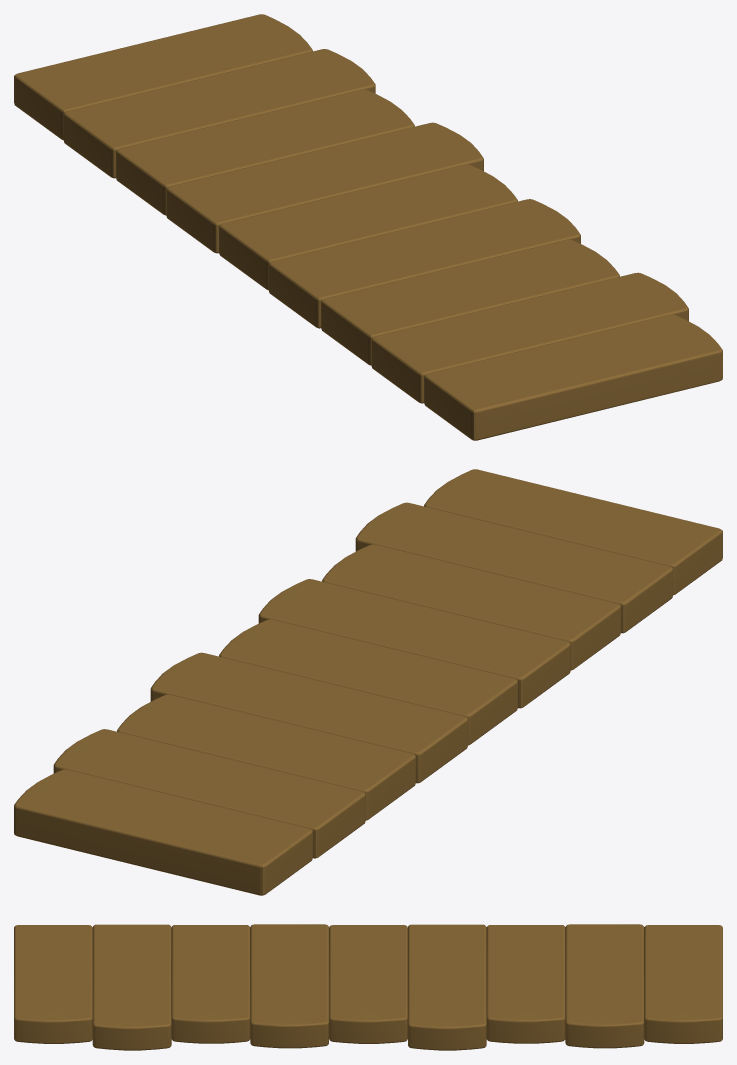
File: WoodDock_UVMap3.fbx
3 renders of one model, top to bottom at view 1: azimuth 30°, elevation 25°; view 2: azimuth 150°, elevation 25°; view 3: azimuth 270°, elevation 25°, orthographic. The views are drawn at different scales.
Parts seen in each view (by area): view 1: WoodDockSlab10, WoodDockSlab16, WoodDockSlab11, WoodDockSlab13, WoodDockSlab14, WoodDockSlab15, WoodDockSlab12, WoodDockSlab17, WoodDockSlab18; view 2: WoodDockSlab18, WoodDockSlab16, WoodDockSlab11, WoodDockSlab13, WoodDockSlab14, WoodDockSlab12, WoodDockSlab15, WoodDockSlab17, WoodDockSlab10; view 3: WoodDockSlab11, WoodDockSlab16, WoodDockSlab14, WoodDockSlab13, WoodDockSlab15, WoodDockSlab12, WoodDockSlab17, WoodDockSlab10, WoodDockSlab18.
Part boxes in pixels (box(x1,y1,x2,y2)): WoodDockSlab10: box(424, 314, 722, 440); WoodDockSlab16: box(166, 122, 483, 253); WoodDockSlab11: box(371, 272, 688, 403); WoodDockSlab13: box(268, 199, 580, 328); WoodDockSlab14: box(63, 49, 375, 178); WoodDockSlab15: box(116, 89, 414, 215); WoodDockSlab12: box(321, 239, 619, 365); WoodDockSlab17: box(219, 164, 517, 290); WoodDockSlab18: box(14, 14, 312, 140); WoodDockSlab18: box(14, 769, 312, 895); WoodDockSlab16: box(150, 652, 467, 783); WoodDockSlab11: box(355, 502, 672, 633); WoodDockSlab13: box(258, 579, 570, 708); WoodDockSlab14: box(53, 729, 365, 858); WoodDockSlab12: box(322, 544, 620, 670); WoodDockSlab15: box(117, 694, 415, 820); WoodDockSlab17: box(219, 619, 517, 745); WoodDockSlab10: box(424, 469, 722, 595); WoodDockSlab11: box(92, 924, 171, 1050); WoodDockSlab16: box(408, 924, 486, 1050); WoodDockSlab14: box(565, 924, 644, 1048); WoodDockSlab13: box(250, 924, 328, 1048); WoodDockSlab15: box(486, 925, 565, 1043); WoodDockSlab12: box(171, 925, 250, 1043); WoodDockSlab17: box(329, 925, 407, 1043); WoodDockSlab10: box(14, 925, 92, 1043); WoodDockSlab18: box(644, 925, 722, 1043).
Size of the model in its own units: 2.42 by 0.2607 by 7.
